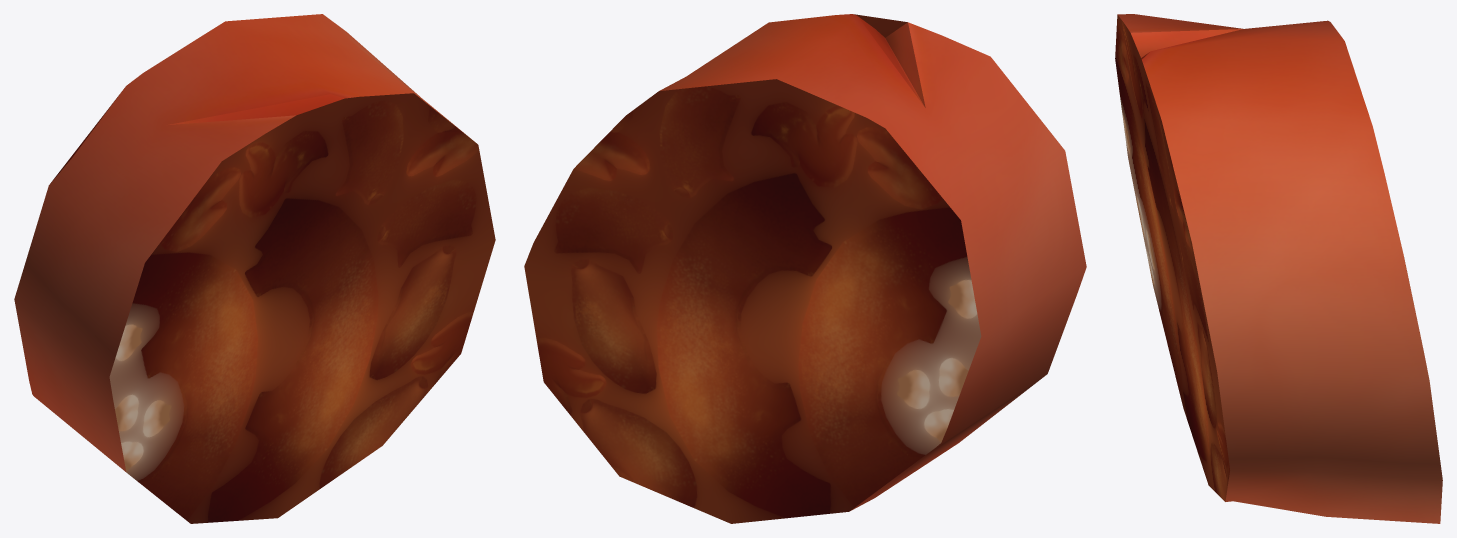
File: Sausage07.fbx
3 renders of one model, left to right at view 1: azimuth 30°, elevation 25°; view 2: azimuth 150°, elevation 25°; view 3: azimuth 270°, elevation 25°, orthographic. The views are drawn at different scales.
Parts seen in each view (by area): view 1: Sausage07; view 2: Sausage07; view 3: Sausage07.
Part boxes in pixels (box(x1,y1,x2,y2)): Sausage07: box(14, 14, 495, 523); Sausage07: box(524, 14, 1086, 523); Sausage07: box(1115, 14, 1442, 523).
Size of the model in its own units: 0.1262 by 0.12 by 0.0785.
